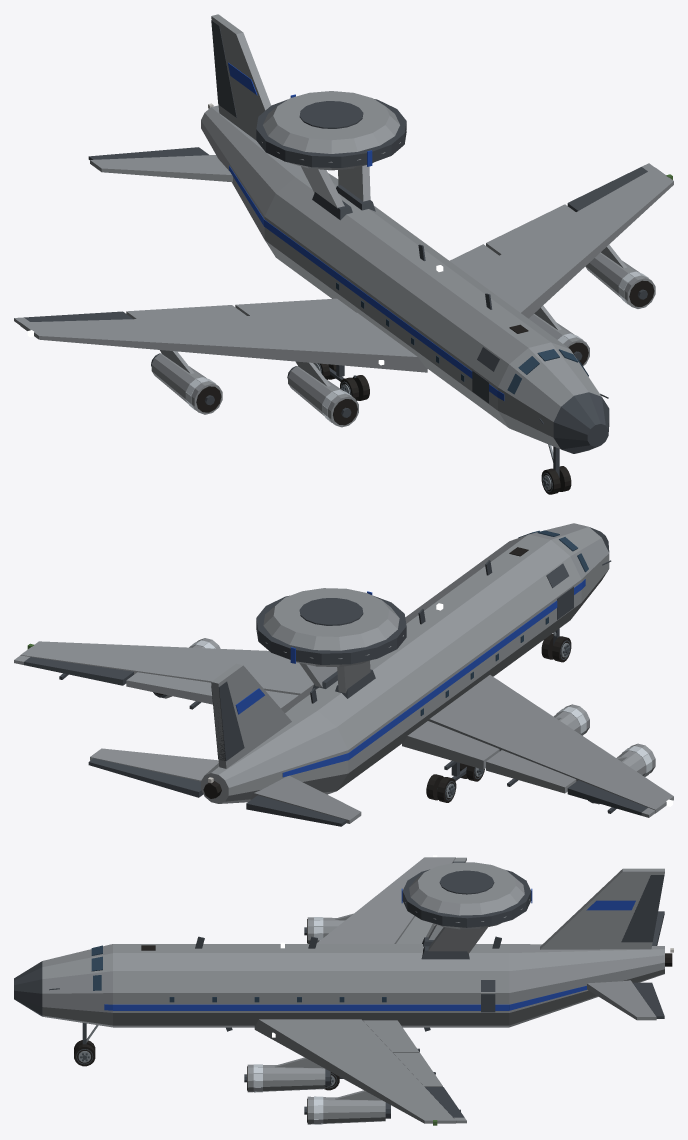
File: awacs.glb
3 views of the same model, one above another, from view 1: azimuth 30°, elevation 25°; view 2: azimuth 150°, elevation 25°; view 3: azimuth 270°, elevation 25° (orthographic). The views are drawn at different scales.
Visible parts, largest first — view 1: fuselage, wings, rotodome, engines, tail, gear; view 2: fuselage, wings, tail, rotodome, gear, engines; view 3: fuselage, wings, tail, rotodome, engines, gear.
Boxes of the visible parts, x1,y1,x2,y2 form: fuselage: [201, 103, 609, 453]; wings: [14, 163, 673, 372]; rotodome: [256, 91, 406, 170]; engines: [151, 244, 655, 427]; tail: [88, 14, 271, 182]; gear: [313, 363, 571, 494]; fuselage: [201, 523, 611, 803]; wings: [14, 641, 673, 817]; tail: [88, 663, 361, 826]; rotodome: [256, 588, 406, 667]; gear: [426, 628, 571, 802]; engines: [153, 638, 655, 804]; fuselage: [14, 924, 673, 1031]; wings: [254, 855, 466, 1125]; tail: [540, 868, 664, 1020]; rotodome: [401, 862, 532, 929]; engines: [244, 913, 390, 1124]; gear: [74, 1023, 342, 1090].
Size of what is drawn, in the model's own units: 11.14 by 3.75 by 11.66.
